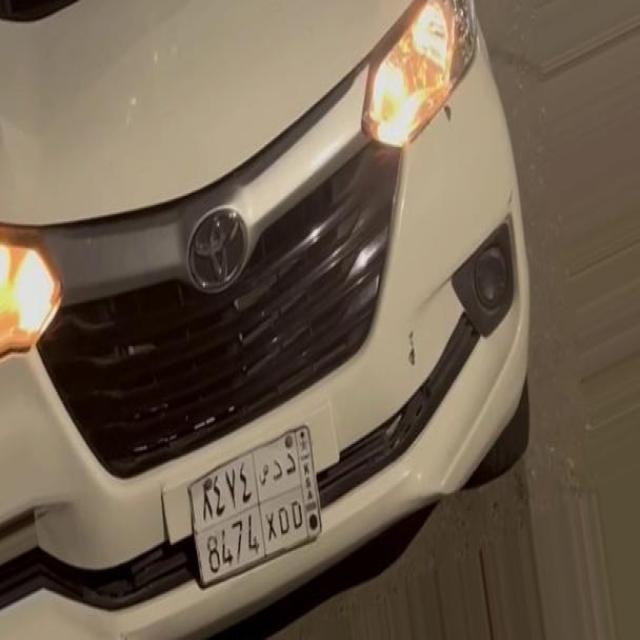Car-plate: (177, 396, 343, 615)
